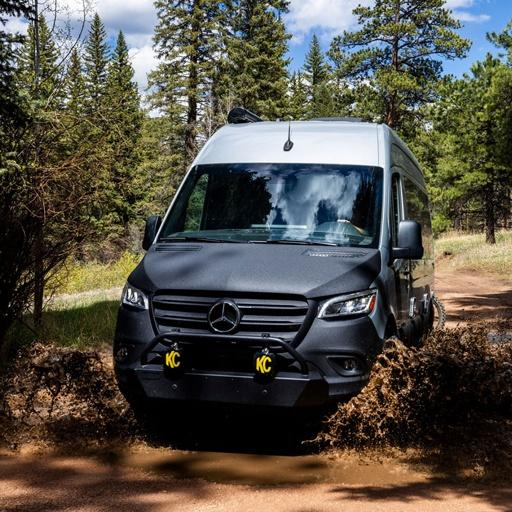van: (112, 116, 434, 429)
